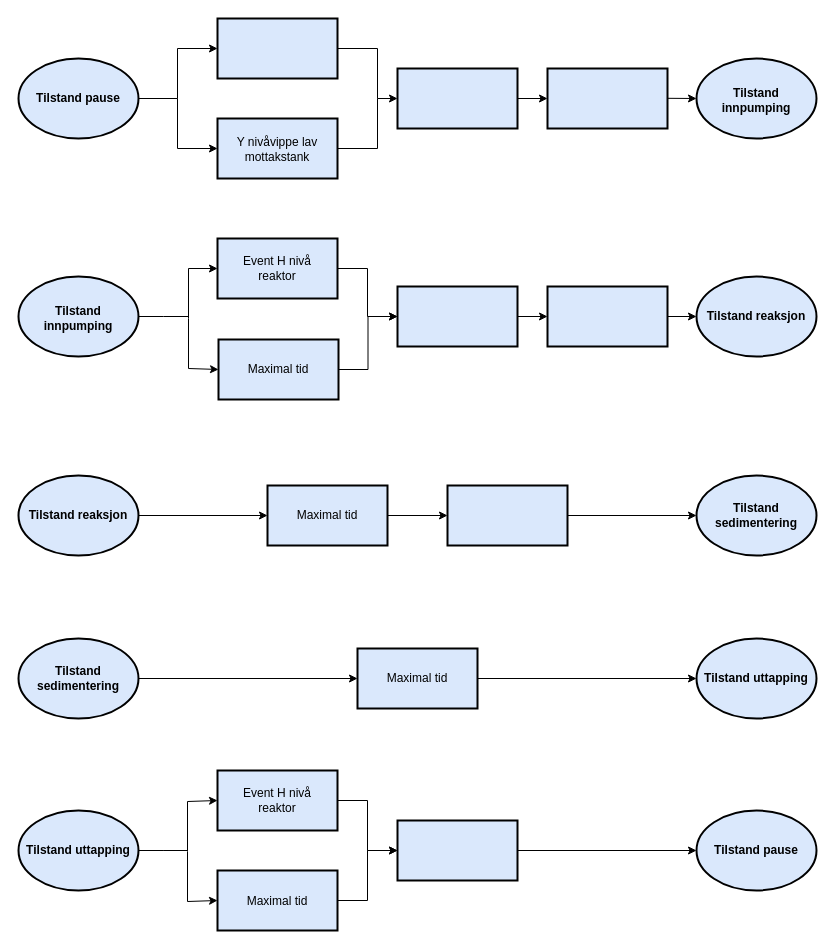
The diagram is 834 pixels wide and 948 high, and some of its shapes have lost their labels. Here are the shapes that lost their labels. From the top down, the box of each, then its label:
(216, 17, 338, 79): Event H nivå mottakstank
(396, 67, 518, 129): NOT Event H nivå reaktor
(546, 67, 668, 129): NOT XB Innpumping forrigling
(396, 285, 518, 347): BCL matepumpe
(546, 285, 668, 347): BCL reaktorventil
(446, 484, 568, 546): BCL blåser
(396, 819, 518, 881): BCL uttappingsventil
